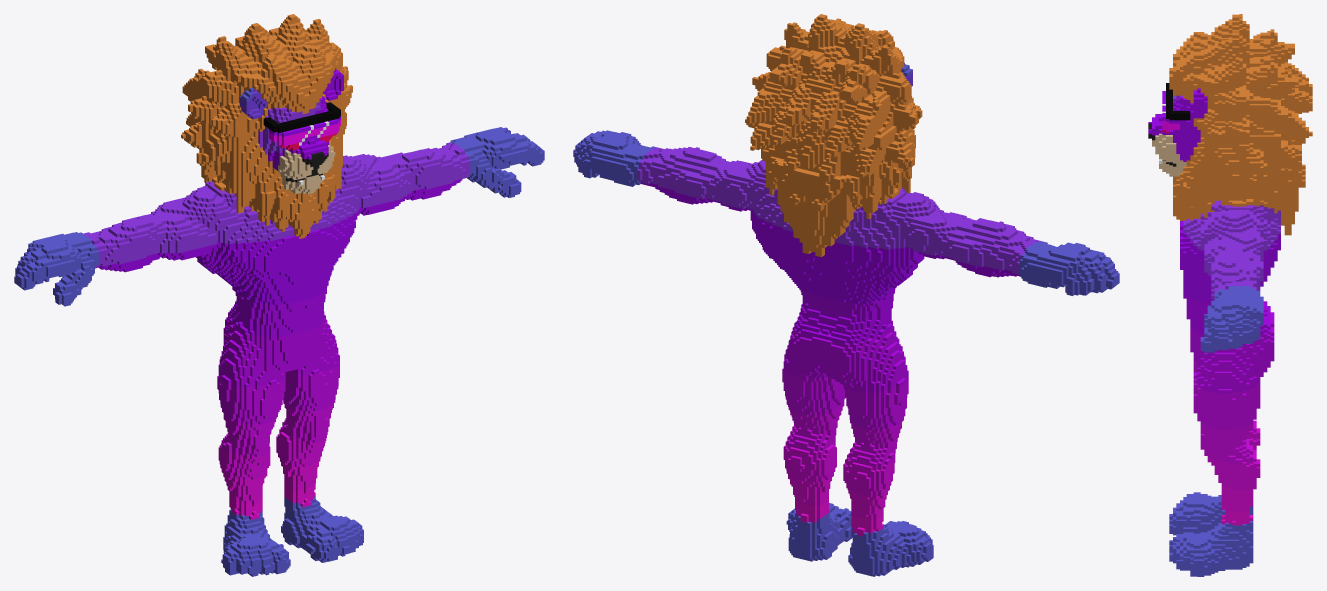
File: 143-Bk6zHeEa.glb
3 renders of one model, left to right at view 1: azimuth 30°, elevation 25°; view 2: azimuth 150°, elevation 25°; view 3: azimuth 270°, elevation 25°, orthographic. The views are drawn at different scales.
Parts seen in each view (by area): view 1: standard.001; view 2: standard.001; view 3: standard.001.
Boxes of the visible parts, box(x1,y1,x2,y2) form: standard.001: box(14, 14, 544, 576); standard.001: box(573, 14, 1119, 576); standard.001: box(1148, 14, 1312, 576).
Bounding box in the file's own units: 17.2 × 16.5 × 4.7.
Materials: 4 (4 with a texture image).
